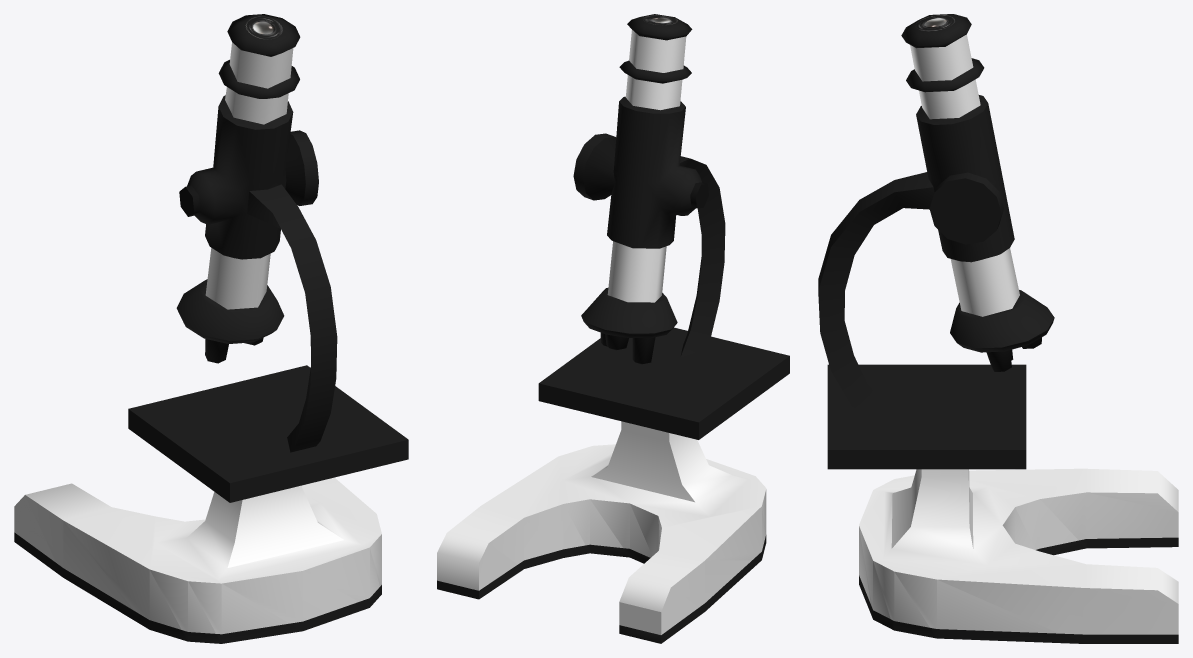
The model's file is Microscope.FBX.
3 renders of one model, left to right at view 1: azimuth 30°, elevation 25°; view 2: azimuth 150°, elevation 25°; view 3: azimuth 270°, elevation 25°, orthographic. The views are drawn at different scales.
Parts seen in each view (by area): view 1: Microscope; view 2: Microscope; view 3: Microscope.
Part boxes in pixels (left/top/right/bottom): Microscope: left=14, top=14, right=408, bottom=643; Microscope: left=437, top=14, right=789, bottom=643; Microscope: left=818, top=14, right=1178, bottom=643.
Bounding box in the file's own units: 12.87 × 28.42 × 16.44.
